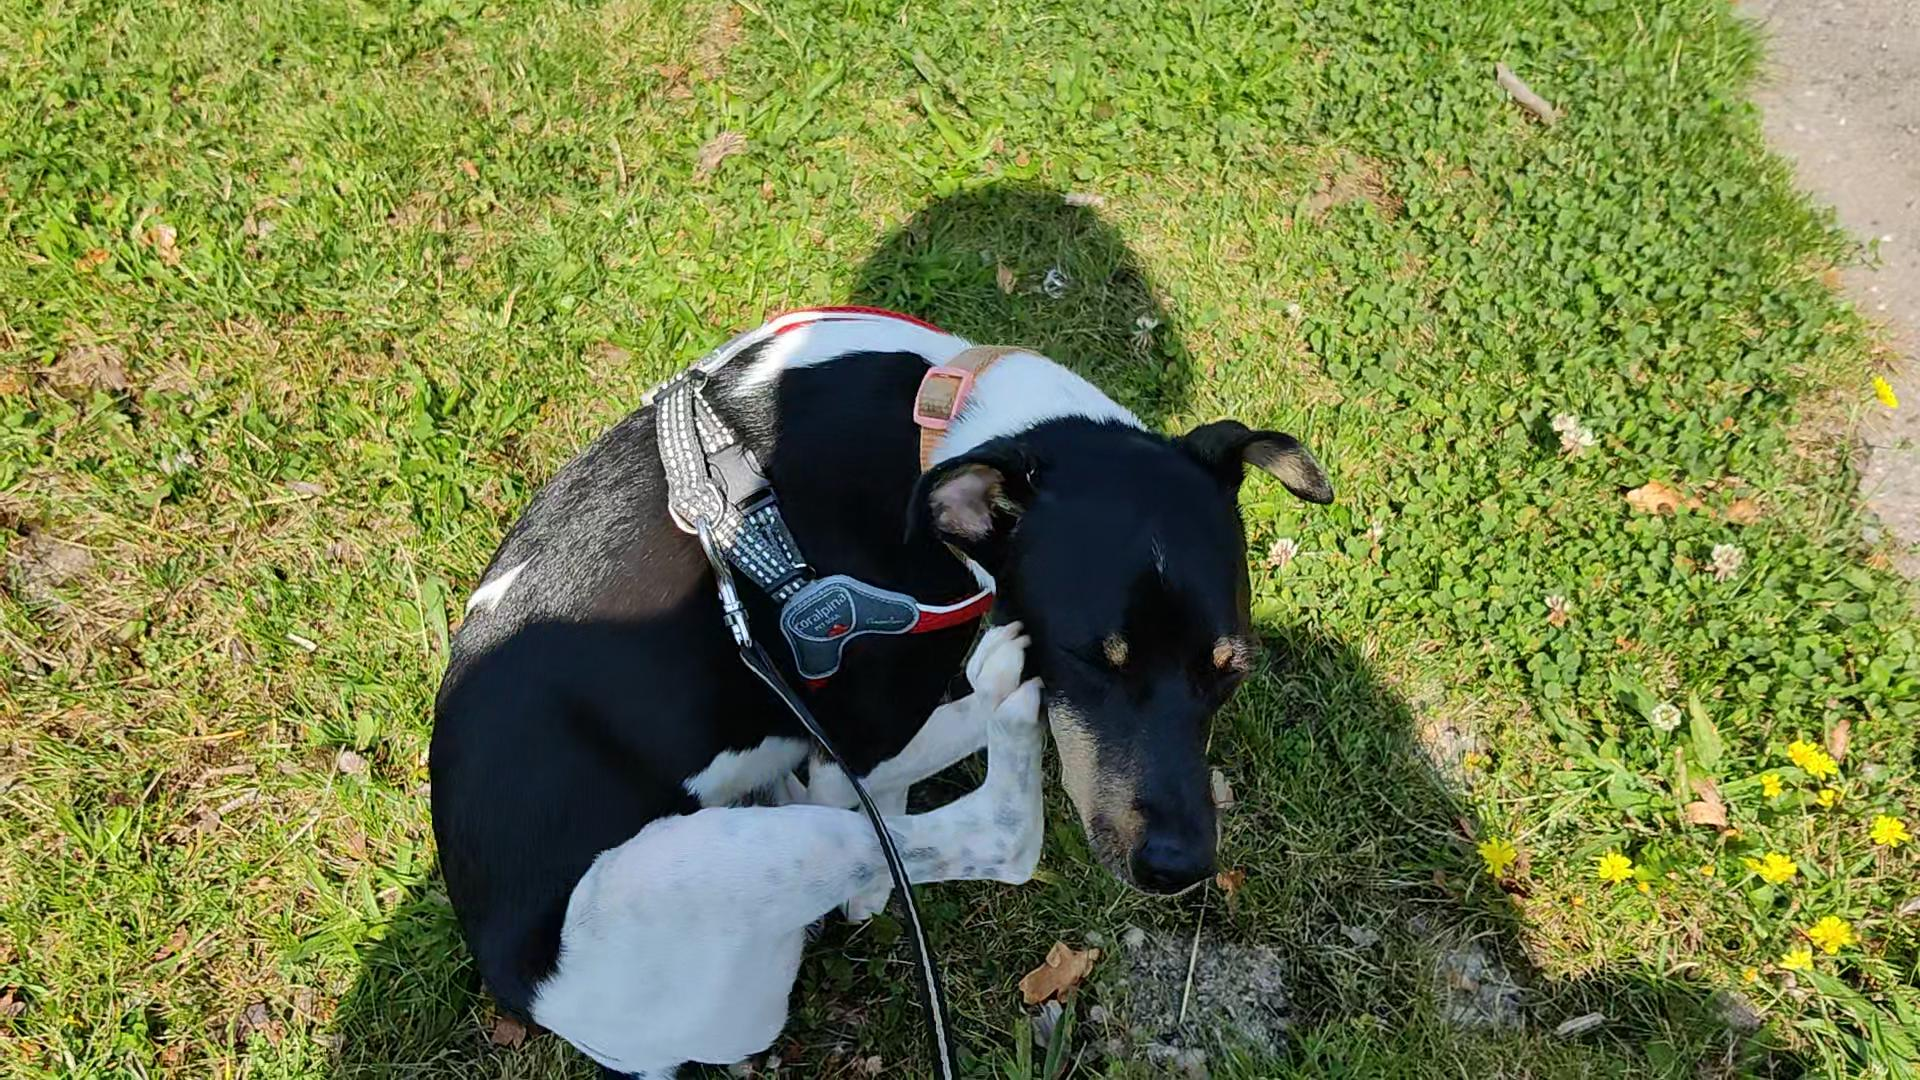Dog: (417, 295, 1341, 1079)
